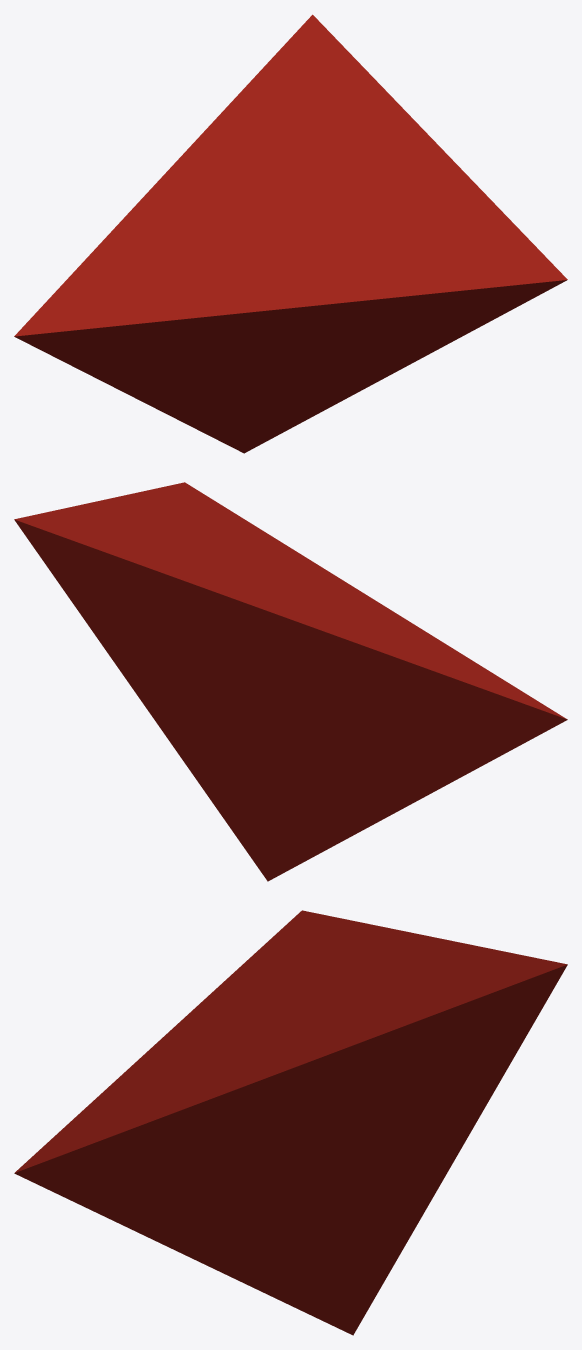
Rendered from Flower_M1_9.fbx.
3 views of the same model, one above another, from view 1: azimuth 30°, elevation 25°; view 2: azimuth 150°, elevation 25°; view 3: azimuth 270°, elevation 25° (orthographic). The views are drawn at different scales.
Parts seen in each view (by area): view 1: Flower_M1_9; view 2: Flower_M1_9; view 3: Flower_M1_9.
Part boxes in pixels (x1=…): Flower_M1_9: x1=14, y1=14, x2=567, y2=453; Flower_M1_9: x1=14, y1=482, x2=567, y2=881; Flower_M1_9: x1=14, y1=910, x2=567, y2=1335.
Bounding box in the file's own units: 8.48 × 6.24 × 6.68.
